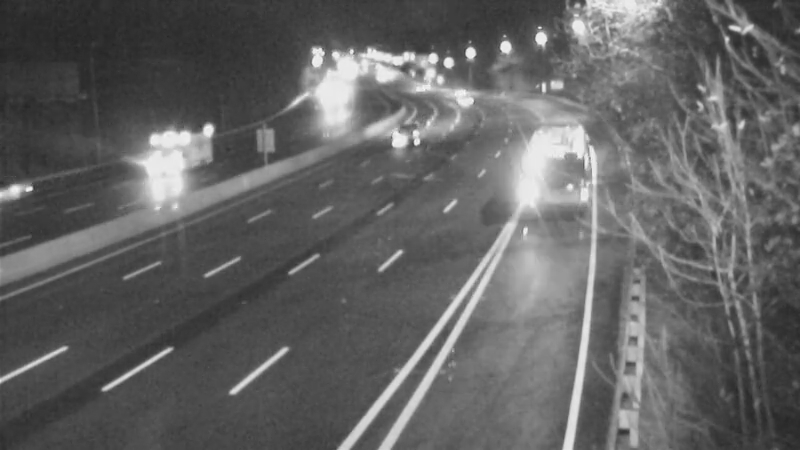vehicle: (510, 120, 590, 200), (133, 114, 213, 194), (391, 63, 441, 113), (431, 64, 481, 114), (448, 78, 498, 128), (378, 106, 428, 156)
